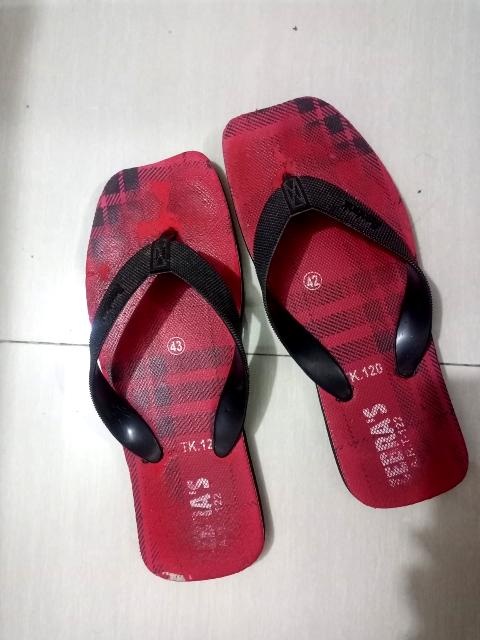sandal: (198, 63, 480, 522), (70, 130, 283, 583)
